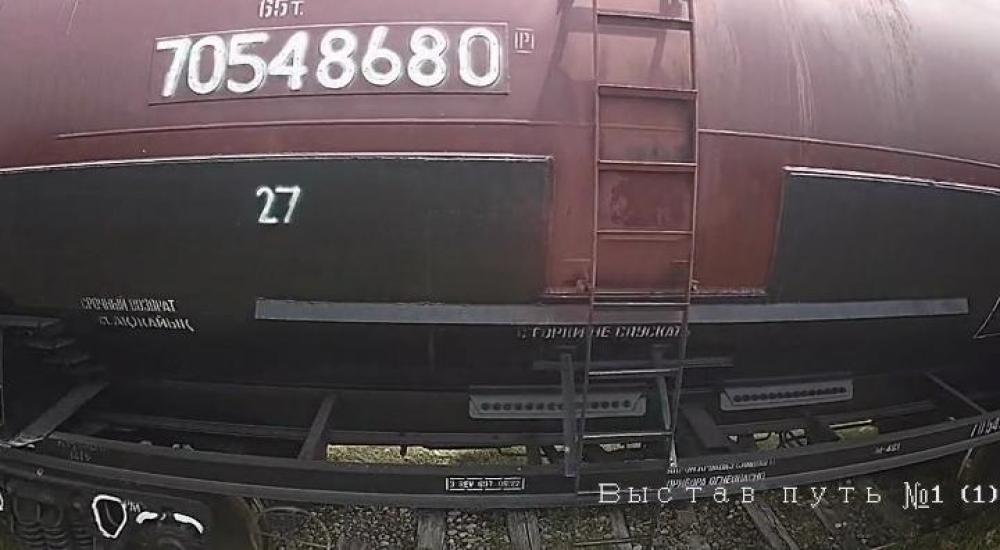Wagon-number: (154, 24, 506, 94)
